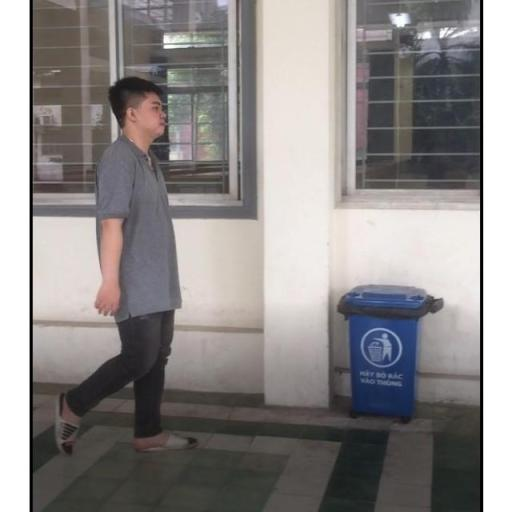Running: (51, 67, 200, 457)
